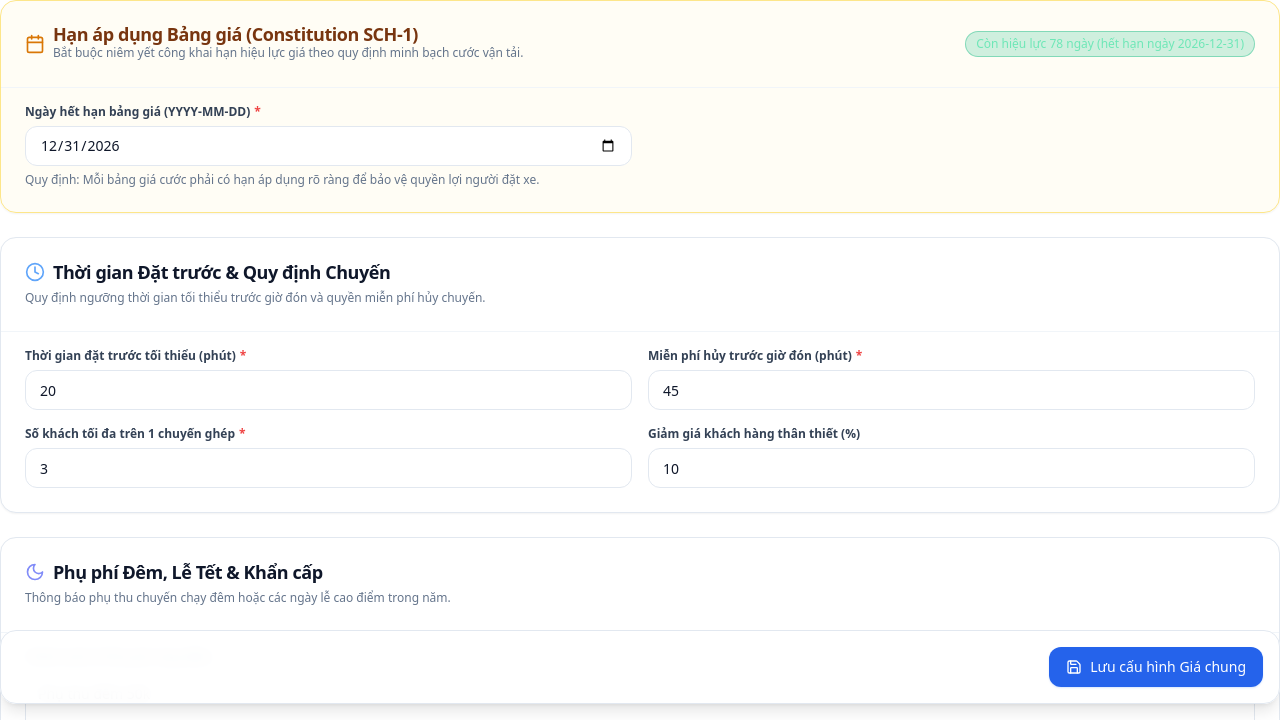
Test: Settings & Pricing Module (Task T118) › PricingSettingsForm Component › lưu cấu hình giá thành công qua POST /api/globals/pricing_settings
expect the date field showing "2026-12-31" is shown: met, box [25,126,632,166]
Replace the text in the number field labelled "Thời gian đặt trước tối thiểu (phút)*" with "25" at [328, 390], box [25,370,632,410]
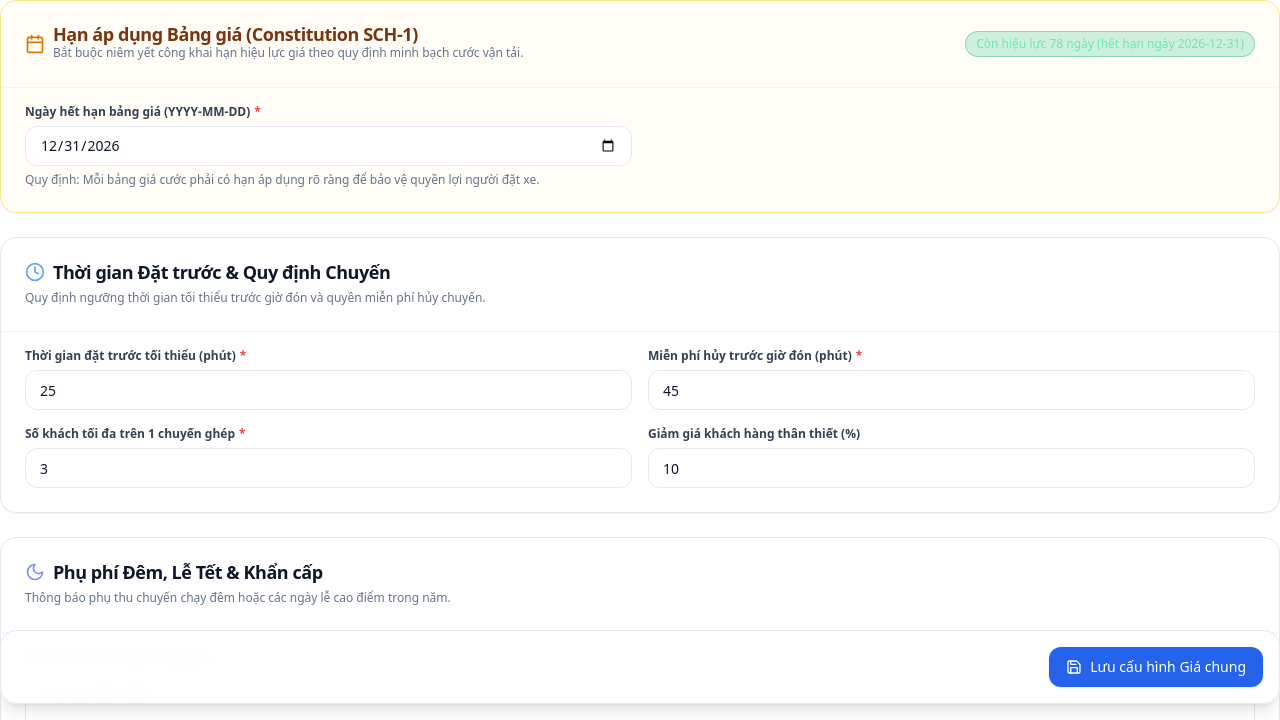
Click the button "Lưu cấu hình Giá chung" at [1156, 667], box [1049,647,1263,687]
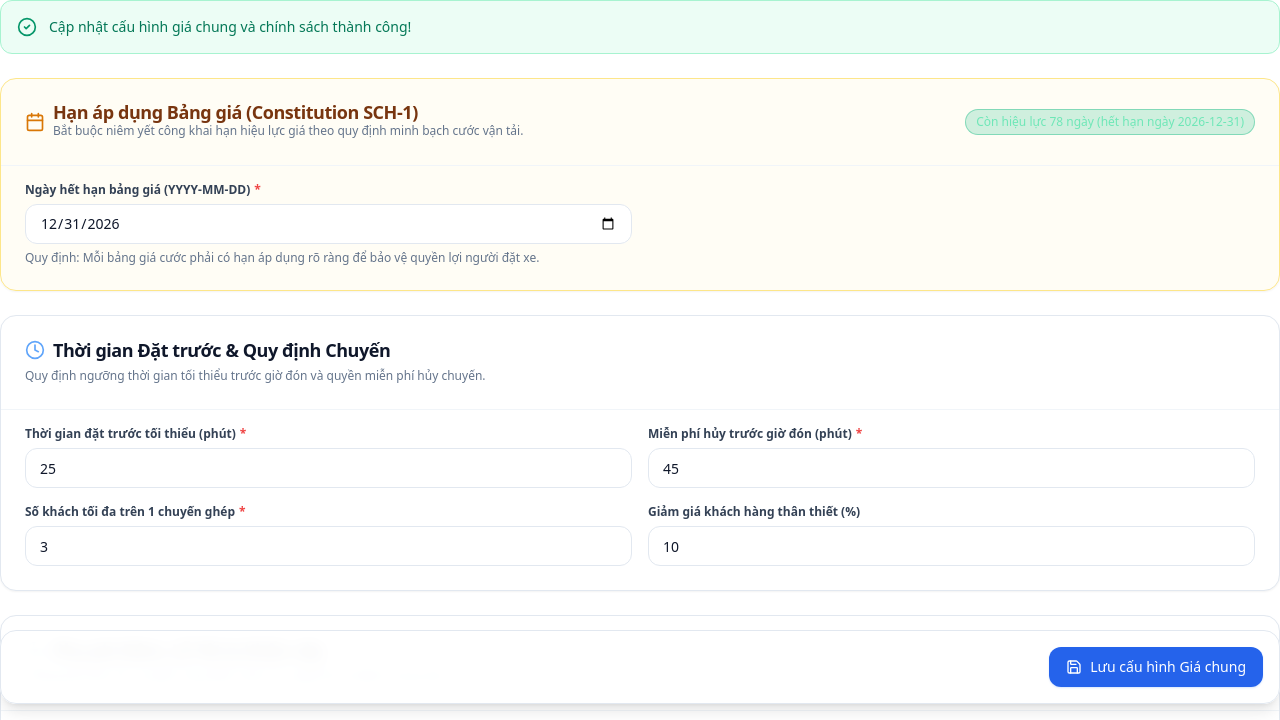
expect the text "Cập nhật cấu hình giá chung và chính sách thành công!" is shown: met, box [49,17,411,37]
